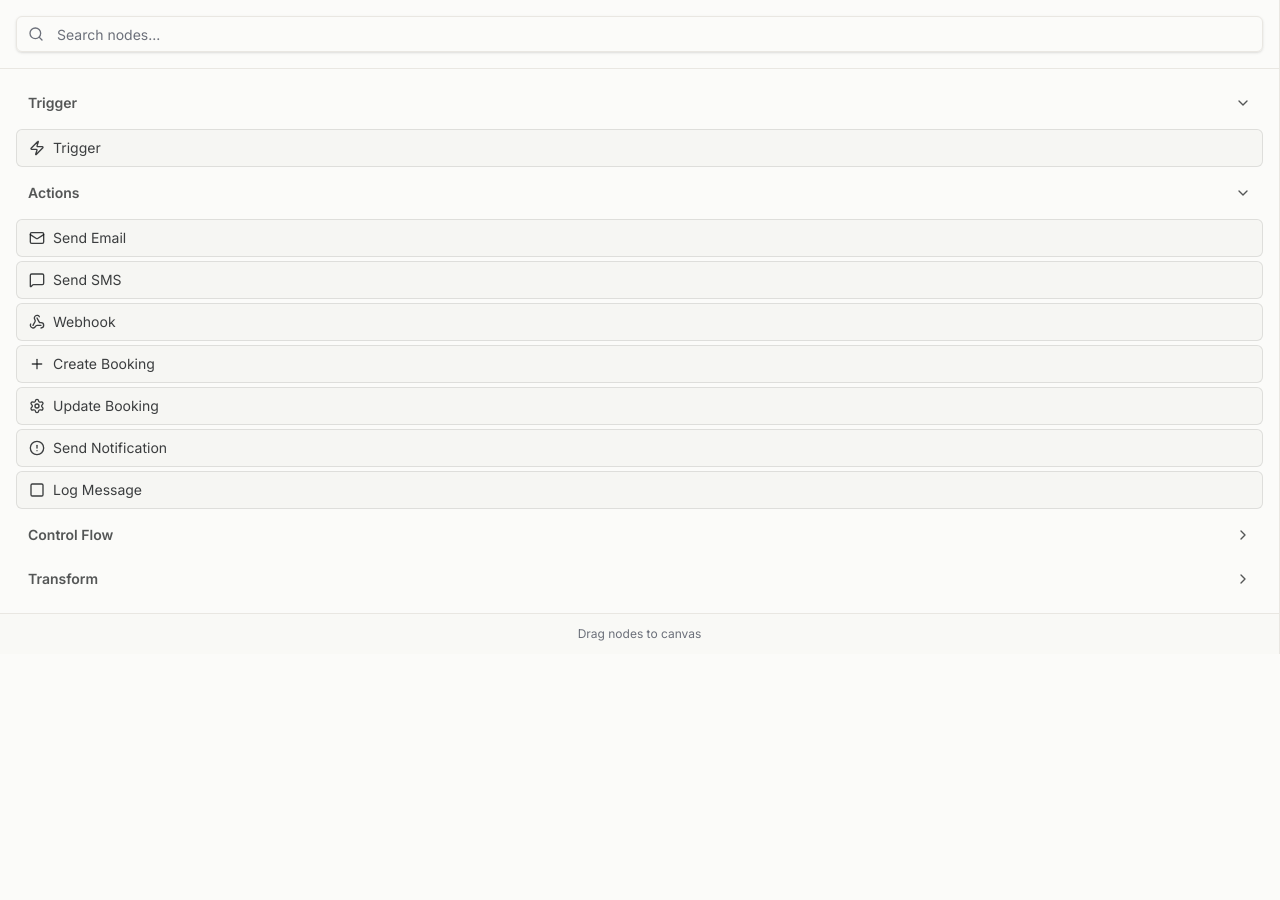
NodePalette › filters nodes based on search query
Note: Search for email
Type "email" into the field with placeholder "Search nodes..." at (640, 34), box x1=16 y1=16 x2=1263 y2=52
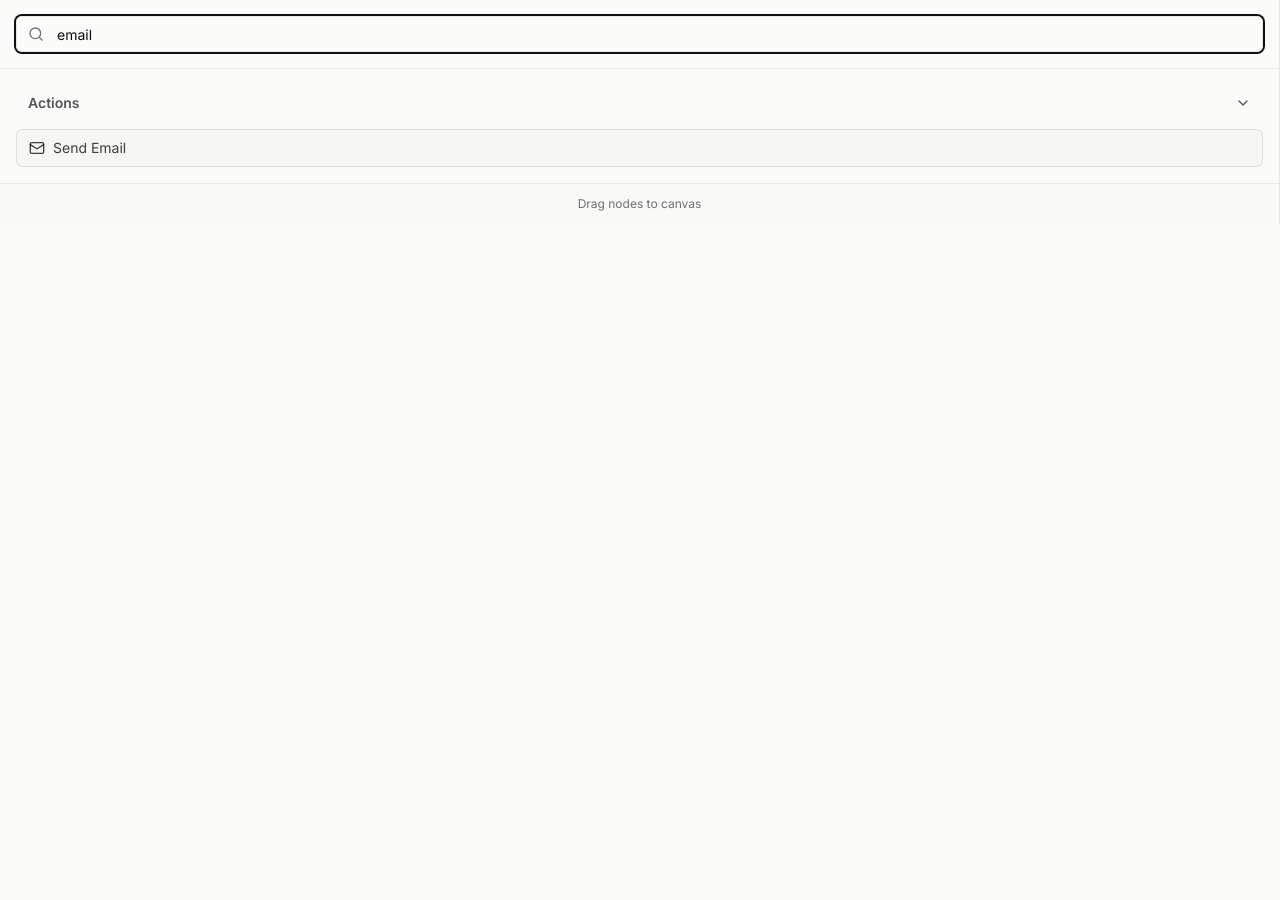
Expected: the text "Send Email" is shown, x1=53 y1=139 x2=126 y2=156
Now the text "Send SMS" is gone
Now the text "Webhook" is gone
